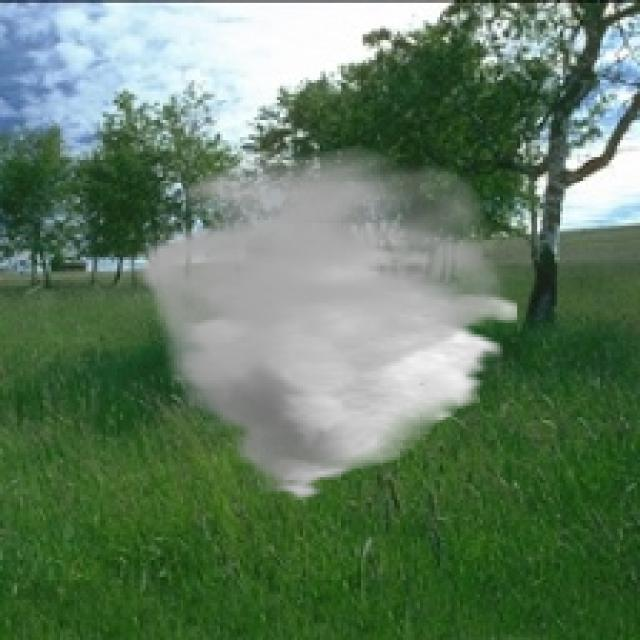Smoke: (134, 146, 517, 503)
